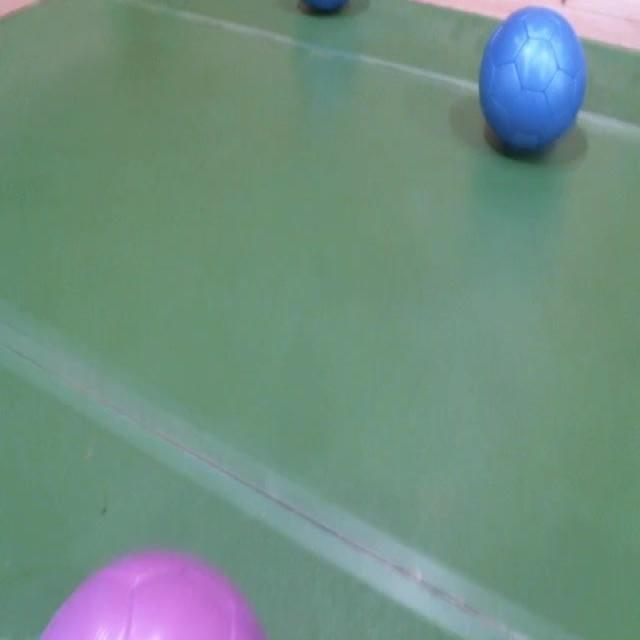blue_ball: (479, 7, 586, 159)
purple_ball: (30, 544, 277, 640)
